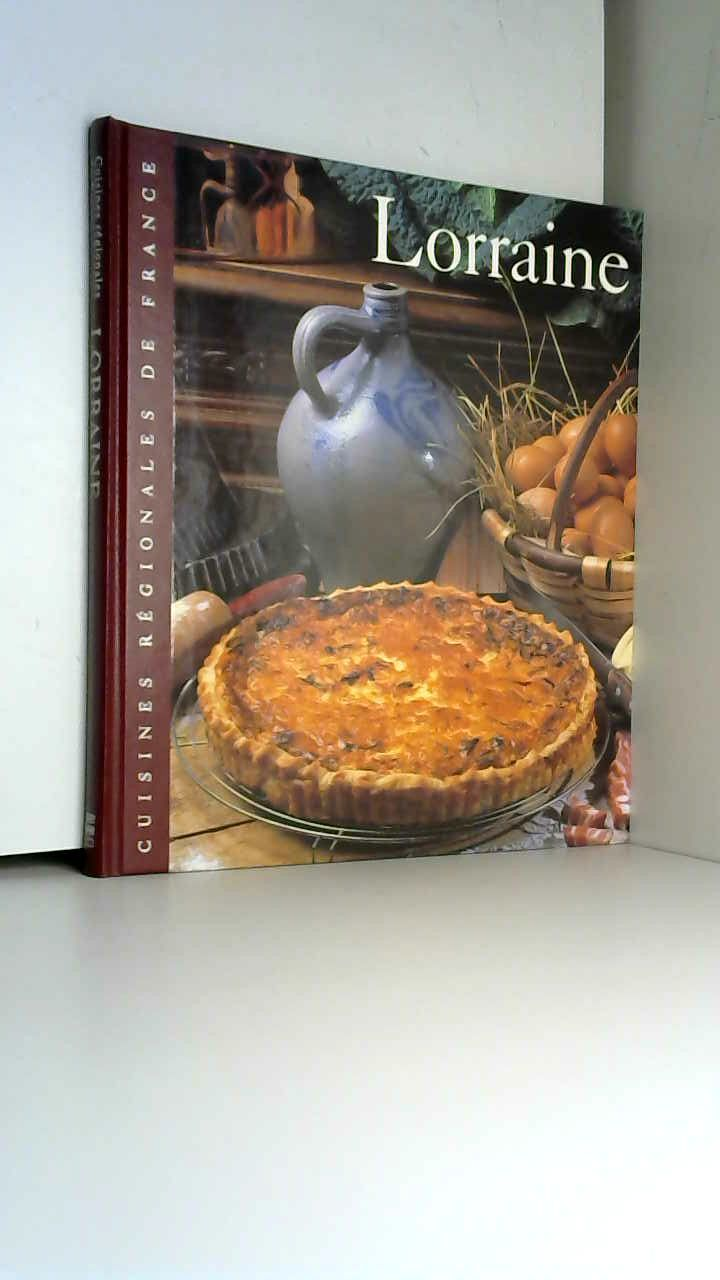book: (50, 90, 715, 901)
